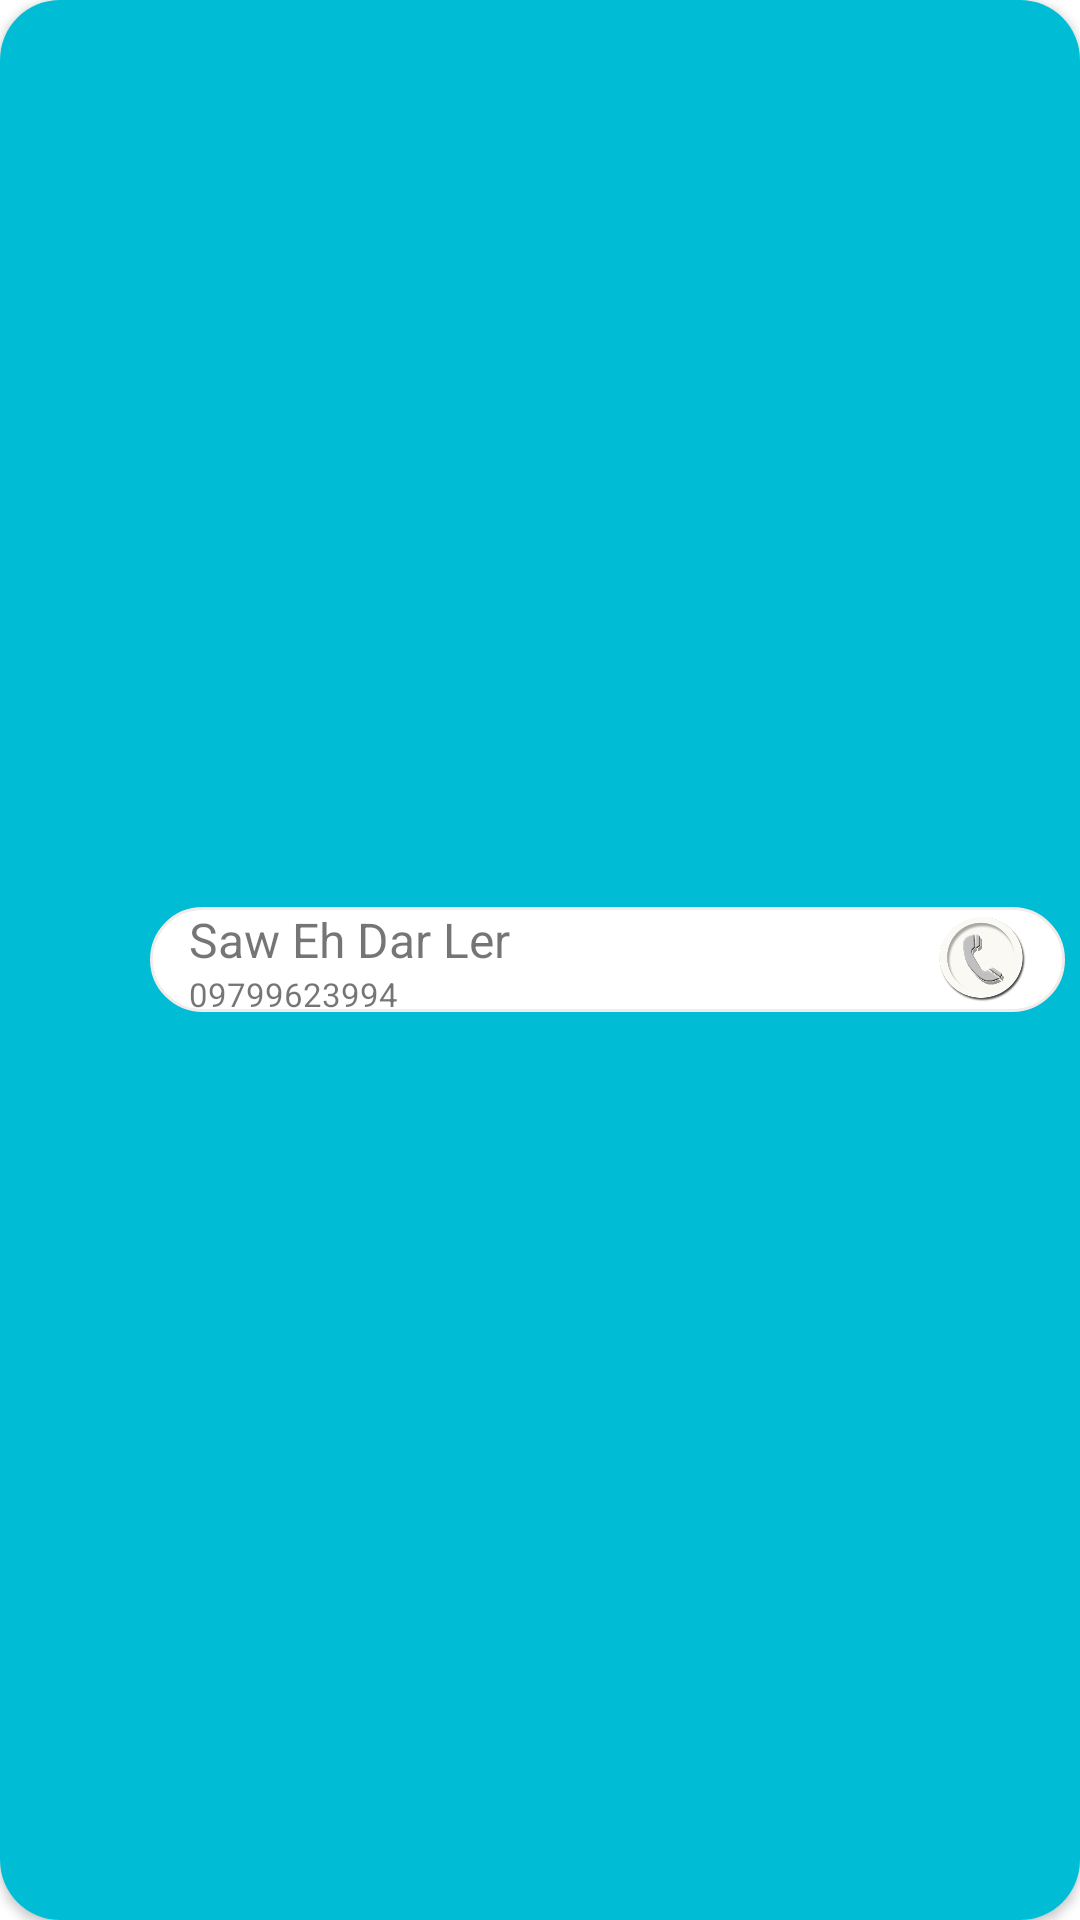

Screen size 1080 x 1920. Icon name, then its box in pixels as (x1, y1, x2, y2):
phone call: (940, 919, 1025, 1001)
